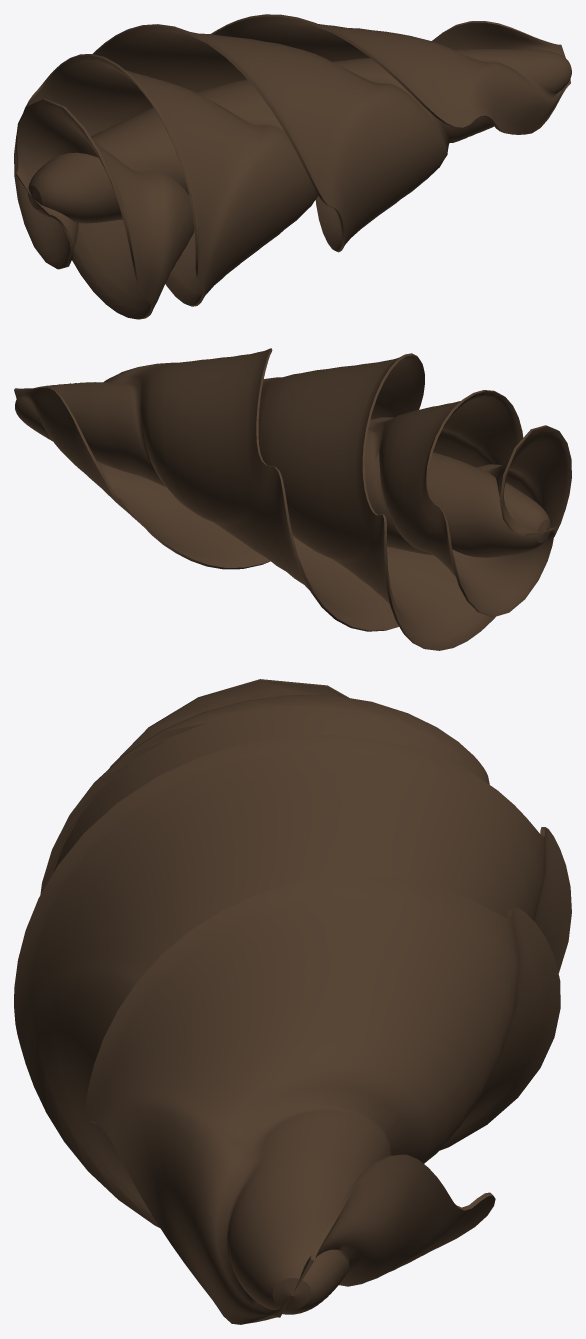
File: NEW683_SharkEggcase_LOD1_v001.glb
3 renders of one model, top to bottom at view 1: azimuth 30°, elevation 25°; view 2: azimuth 150°, elevation 25°; view 3: azimuth 270°, elevation 25°, orthographic. The views are drawn at different scales.
Parts seen in each view (by area): view 1: NEW683_Whole_SharkEggcase_LOD1; view 2: NEW683_Whole_SharkEggcase_LOD1; view 3: NEW683_Whole_SharkEggcase_LOD1.
Boxes of the visible parts, x1,y1,x2,y2 form: NEW683_Whole_SharkEggcase_LOD1: (14, 14, 571, 319); NEW683_Whole_SharkEggcase_LOD1: (14, 348, 571, 650); NEW683_Whole_SharkEggcase_LOD1: (14, 679, 571, 1324).
Bounding box in the file's own units: 0.15 × 0.068 × 0.075.
